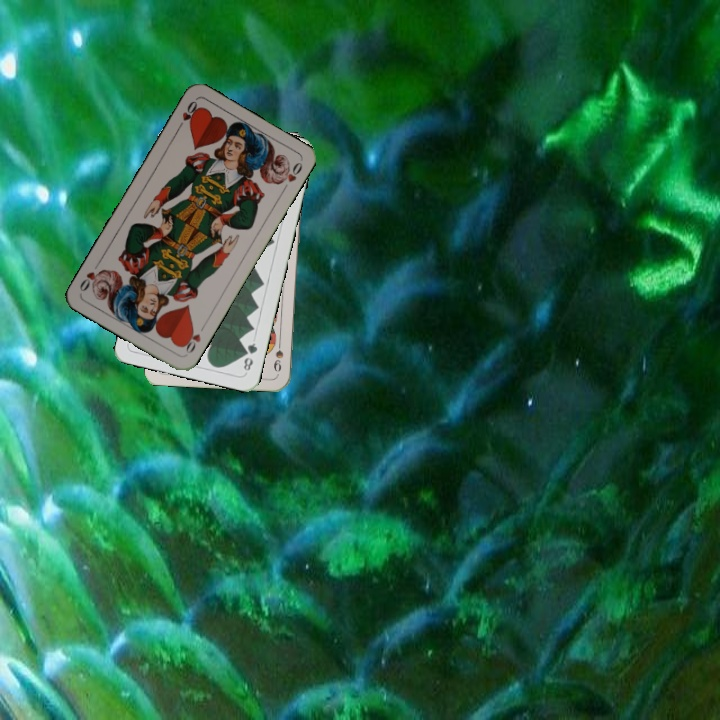G8: (239, 339, 260, 373)
HO: (178, 320, 208, 356), (173, 97, 202, 133)
S9: (270, 335, 286, 374)
